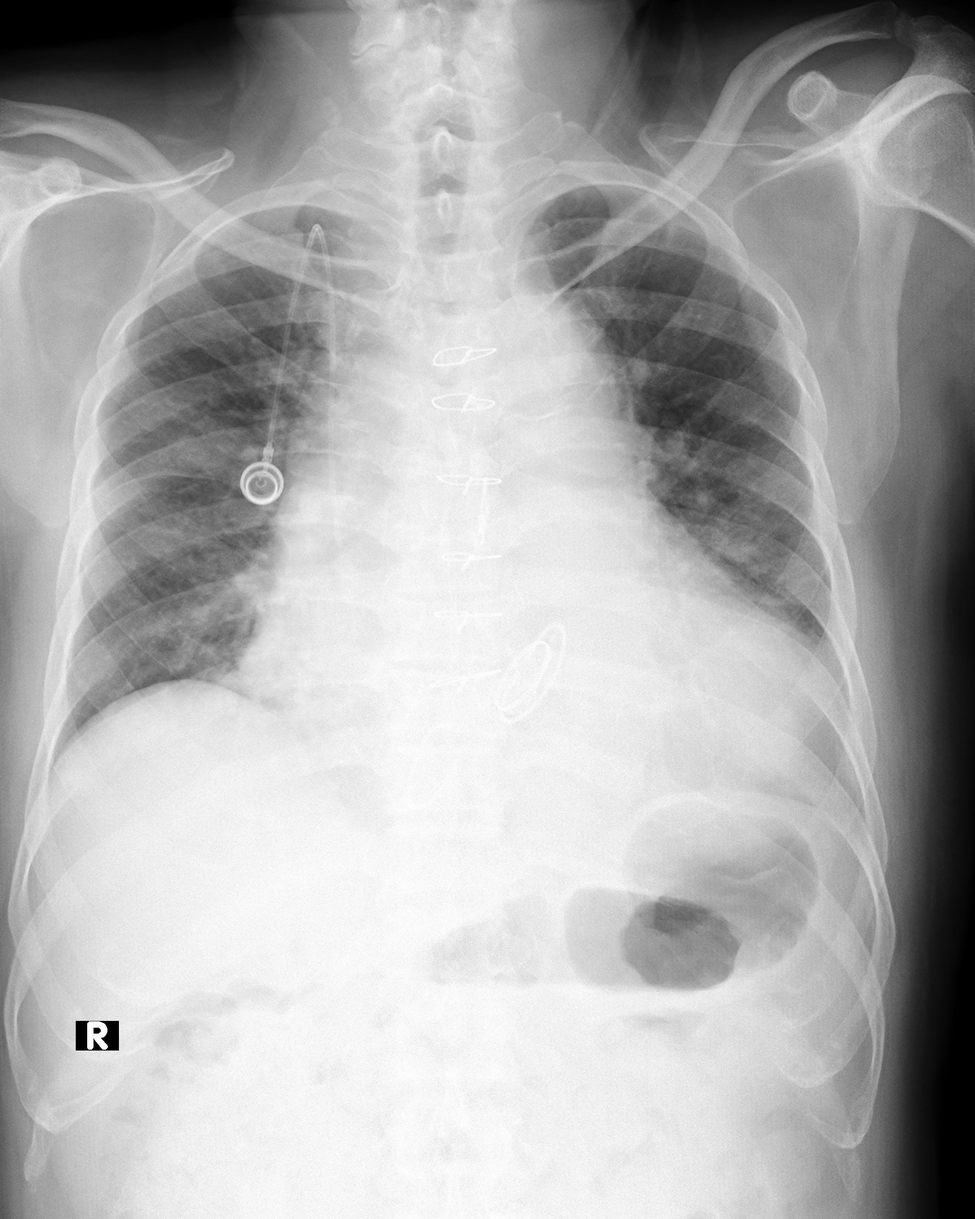Aortic enlargement: (446, 306, 635, 444)
Cardiomegaly: (235, 610, 835, 736)
